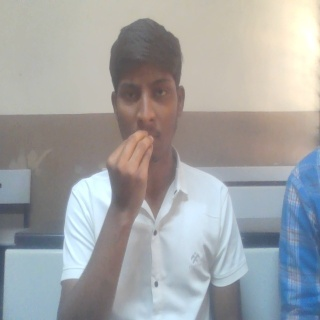Food: (105, 129, 154, 220)
